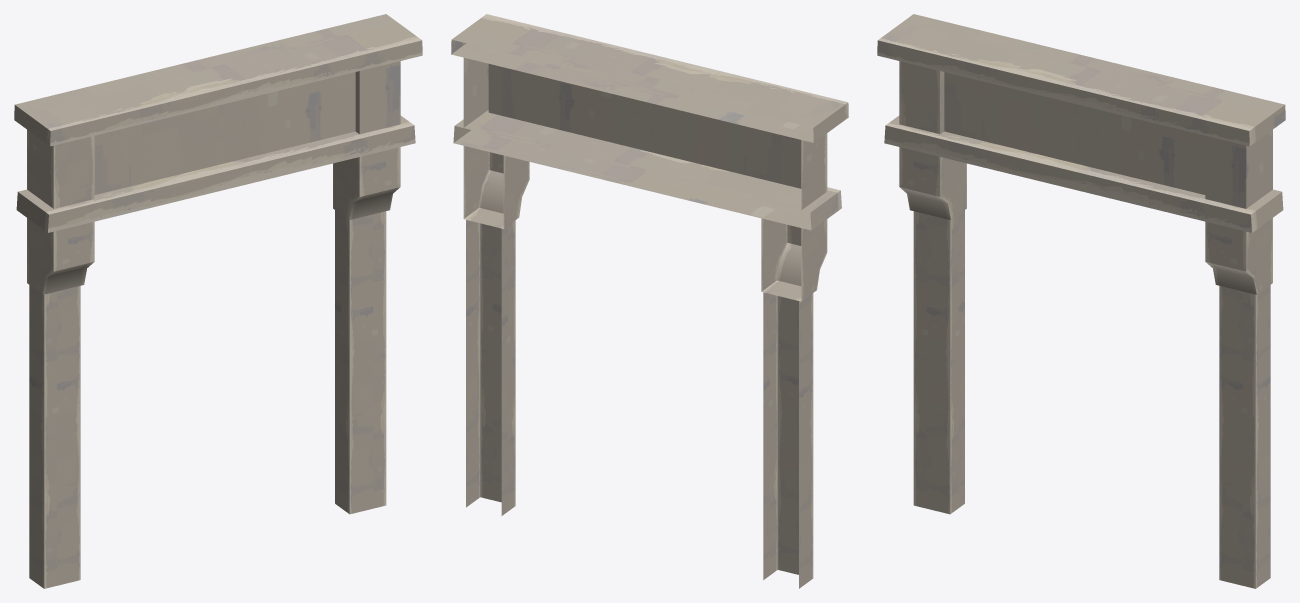
File: MOD_Door_03_framedeco_01_04.fbx
3 views of the same model, side by side, from view 1: azimuth 30°, elevation 25°; view 2: azimuth 150°, elevation 25°; view 3: azimuth 330°, elevation 25° (orthographic). The views are drawn at different scales.
Visible parts, largest first — view 1: MOD_Door_03_framedeco_01_04; view 2: MOD_Door_03_framedeco_01_04; view 3: MOD_Door_03_framedeco_01_04.
Boxes of the visible parts, x1,y1,x2,y2 form: MOD_Door_03_framedeco_01_04: [14, 14, 422, 588]; MOD_Door_03_framedeco_01_04: [451, 14, 848, 588]; MOD_Door_03_framedeco_01_04: [877, 14, 1285, 588].
Size of the model in its own units: 273 by 334 by 45.72.
